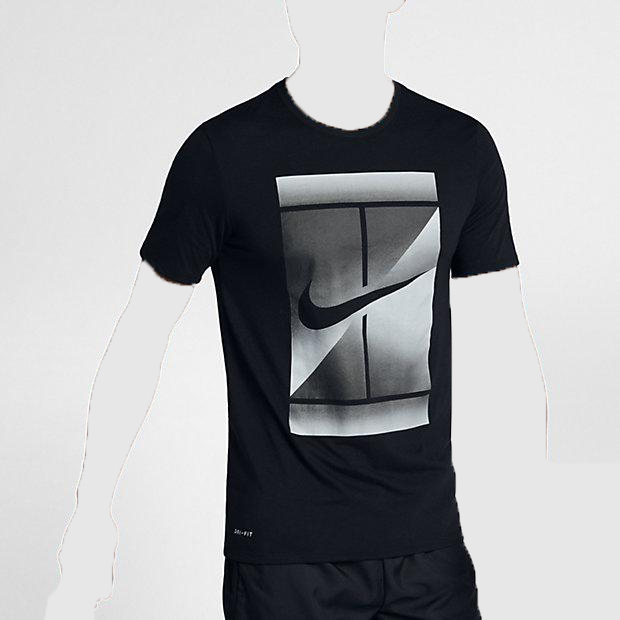teeshirt: (133, 74, 523, 557)
